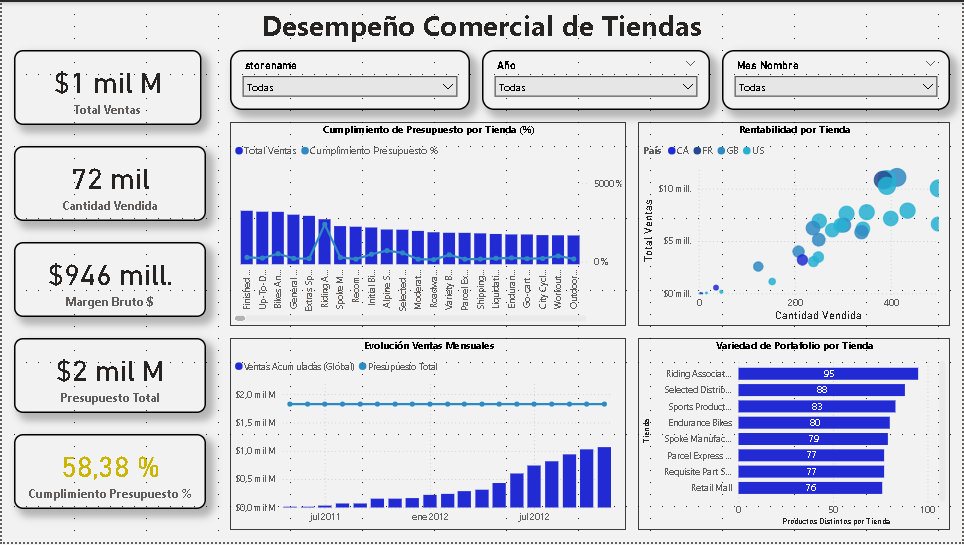

What the dashboard file says about the page in this screenshot:
{"tool":"powerbi","page":{"name":"AdventureWorks","canvas":[1280,720],"ordinal":0},"visuals":[{"type":"card","fields":{"Values":["_Medidas.Total Ventas"]},"box":[16,64,250,100],"z":0},{"type":"textbox","box":[0,0,1280,80],"z":1000},{"type":"card","fields":{"Values":["_Medidas.Cantidad Vendida"]},"box":[16,336,256,112],"z":2000},{"type":"card","fields":{"Values":["_Medidas.Margen Bruto $"]},"box":[16,192,256,112],"z":3000},{"type":"card","fields":{"Values":["_Medidas.Presupuesto Total"]},"box":[16,480,256,96],"z":4000},{"type":"card","fields":{"Values":["_Medidas.Cumplimiento Presupuesto %"]},"box":[16,608,256,96],"z":5000},{"type":"slicer","fields":{"Values":["v_dim_store.storename"]},"box":[304,64,320,80],"z":6000},{"type":"slicer","fields":{"Values":["Calendario.Año"]},"box":[640,64,304,80],"z":7000},{"type":"lineClusteredColumnComboChart","title":"Cumplimiento de Presupuesto por Tienda (%)","fields":{"Category":["v_dim_store.storename"],"Y":["_Medidas.Total Ventas"],"Y2":["_Medidas.Cumplimiento Presupuesto %"]},"box":[304,160,528,272],"z":8000},{"type":"scatterChart","title":" Rentabilidad por Tienda","fields":{"Category":["v_dim_store.storename"],"X":["_Medidas.Cantidad Vendida"],"Series":["v_sales.country"],"Y":["_Medidas.Total Ventas"],"Size":["_Medidas.Margen Bruto $"]},"box":[848,448,416,256],"z":9000},{"type":"lineClusteredColumnComboChart","title":"Evolución Ventas Mensuales","fields":{"Y":["_Medidas.Ventas Acumuladas (Global)"],"Y2":["_Medidas.Presupuesto Total"],"Category":["Calendario.MonthDate"]},"box":[304,448,528,256],"z":10000},{"type":"clusteredBarChart","title":"Variedad de Portafolio por Tienda","fields":{"Category":["v_dim_store.storename"],"Y":["_Medidas.Productos Distintos por Tienda"]},"box":[848,160,416,272],"z":12000},{"type":"slicer","fields":{"Values":["Calendario.Mes Nombre"]},"box":[960,64,304,80],"z":13000}]}

Visuals, with their boxes in screenshot pixels (x1, y1, x2, y2), scaled from the page's 1280x720 canvas onto the 964x545 screenshot:
card - _Medidas.Total Ventas: box(12, 48, 200, 124)
textbox: box(0, 0, 963, 61)
card - _Medidas.Cantidad Vendida: box(12, 254, 205, 339)
card - _Medidas.Margen Bruto $: box(12, 145, 205, 230)
card - _Medidas.Presupuesto Total: box(12, 363, 205, 436)
card - _Medidas.Cumplimiento Presupuesto %: box(12, 460, 205, 533)
slicer - v_dim_store.storename: box(229, 48, 470, 109)
slicer - Calendario.Año: box(482, 48, 711, 109)
"Cumplimiento de Presupuesto por Tienda (%)" lineClusteredColumnComboChart: box(229, 121, 627, 327)
" Rentabilidad por Tienda" scatterChart: box(639, 339, 952, 533)
"Evolución Ventas Mensuales" lineClusteredColumnComboChart: box(229, 339, 627, 533)
"Variedad de Portafolio por Tienda" clusteredBarChart: box(639, 121, 952, 327)
slicer - Calendario.Mes Nombre: box(723, 48, 952, 109)
